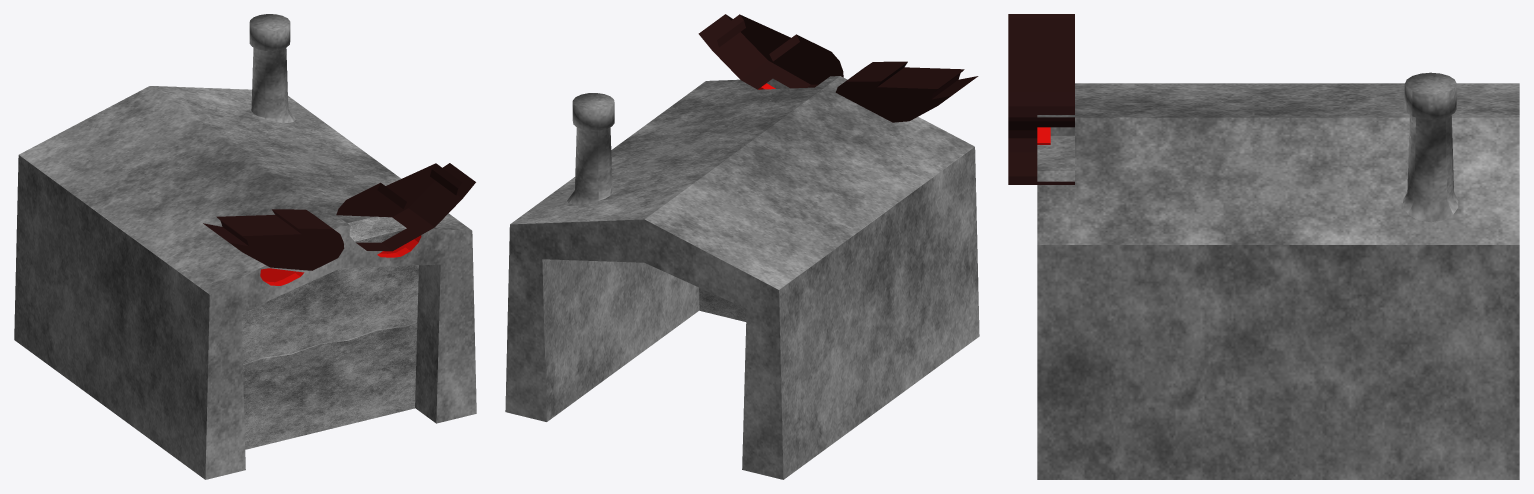
The model's file is maw_sileum.glb.
The picture shows the model from 3 angles, left to right: view 1: azimuth 30°, elevation 25°; view 2: azimuth 150°, elevation 25°; view 3: azimuth 270°, elevation 25°; orthographic projection. The views are drawn at different scales.
Visible parts, largest first — view 1: Archway, Mouth_upper, Mouth_lower; view 2: Archway, Mouth_upper; view 3: Archway.
Part boxes in pixels (x1,y1,x2,y2): Archway: [14, 14, 476, 479]; Mouth_upper: [243, 322, 417, 449]; Mouth_lower: [241, 216, 418, 364]; Archway: [505, 14, 979, 479]; Mouth_upper: [699, 287, 746, 321]; Archway: [1008, 14, 1519, 479].
Size of the model in its own units: 2.35 by 2.4 by 3.04.
Materials: 5 (3 with a texture image).
